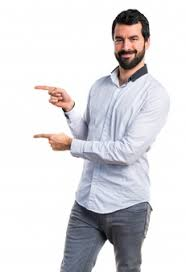hand: (30, 82, 72, 113), (31, 127, 73, 156)
